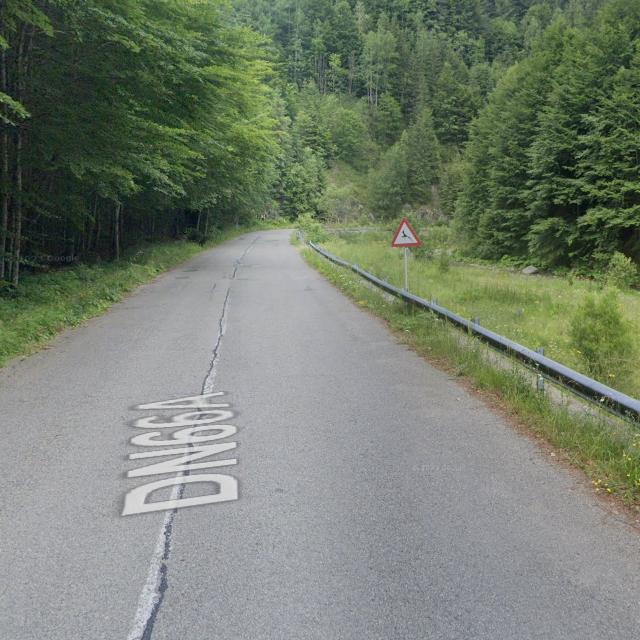warn_wild_animals: (391, 218, 422, 246)
